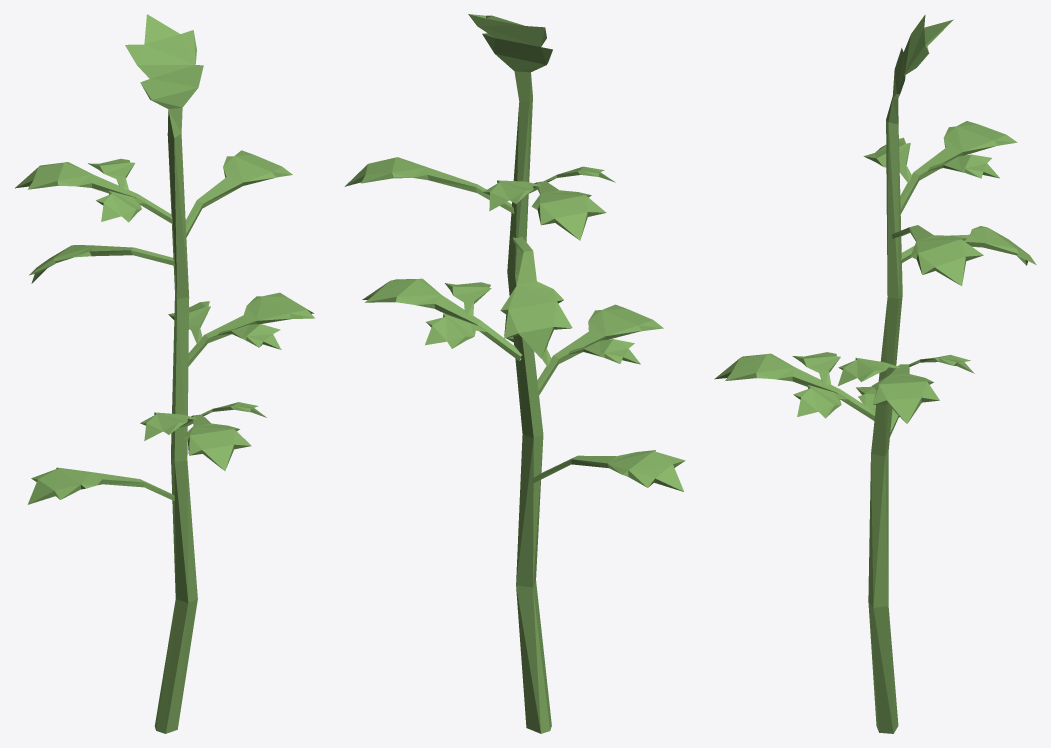
Rendered from cultivo-tomate-3.glb.
The picture shows the model from 3 angles, left to right: view 1: azimuth 30°, elevation 25°; view 2: azimuth 150°, elevation 25°; view 3: azimuth 270°, elevation 25°; orthographic projection. The views are drawn at different scales.
Visible parts, largest first — view 1: Tomato_3; view 2: Tomato_3; view 3: Tomato_3.
Part boxes in pixels (bbox=[...]): Tomato_3: bbox=[15, 14, 314, 733]; Tomato_3: bbox=[344, 14, 685, 733]; Tomato_3: bbox=[714, 14, 1036, 733].
Bounding box in the file's own units: 0.6391 × 1.43 × 0.5828.
